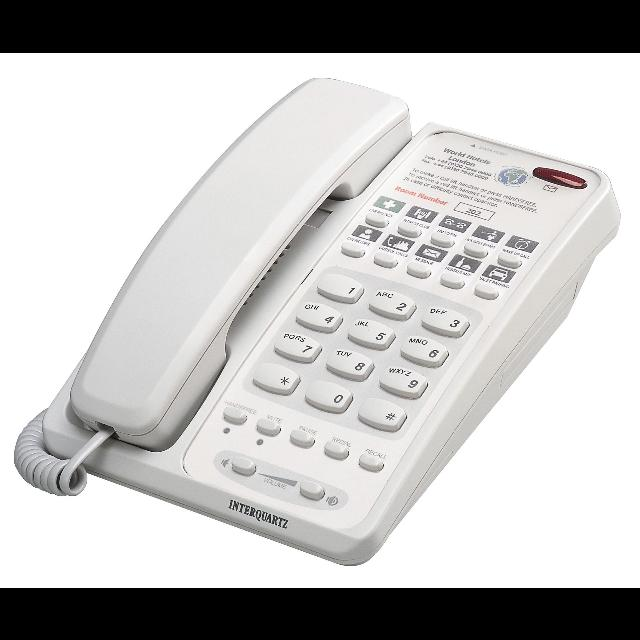Telephone-Set: (15, 60, 640, 572)
